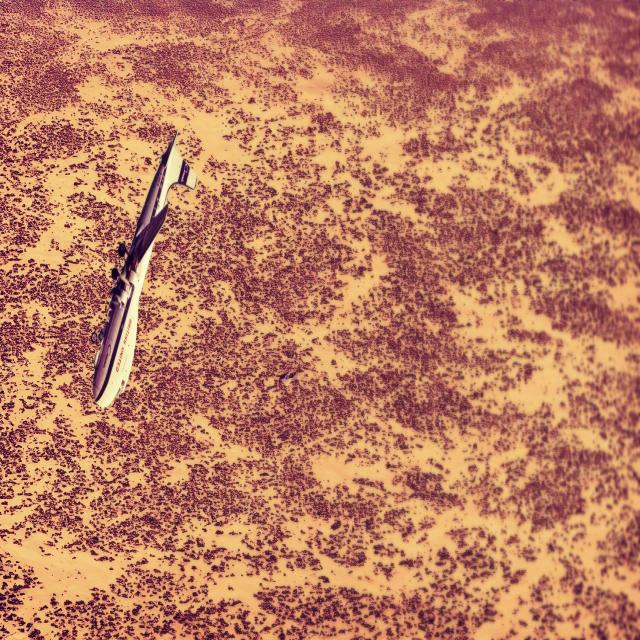airplane: (91, 128, 198, 410)
